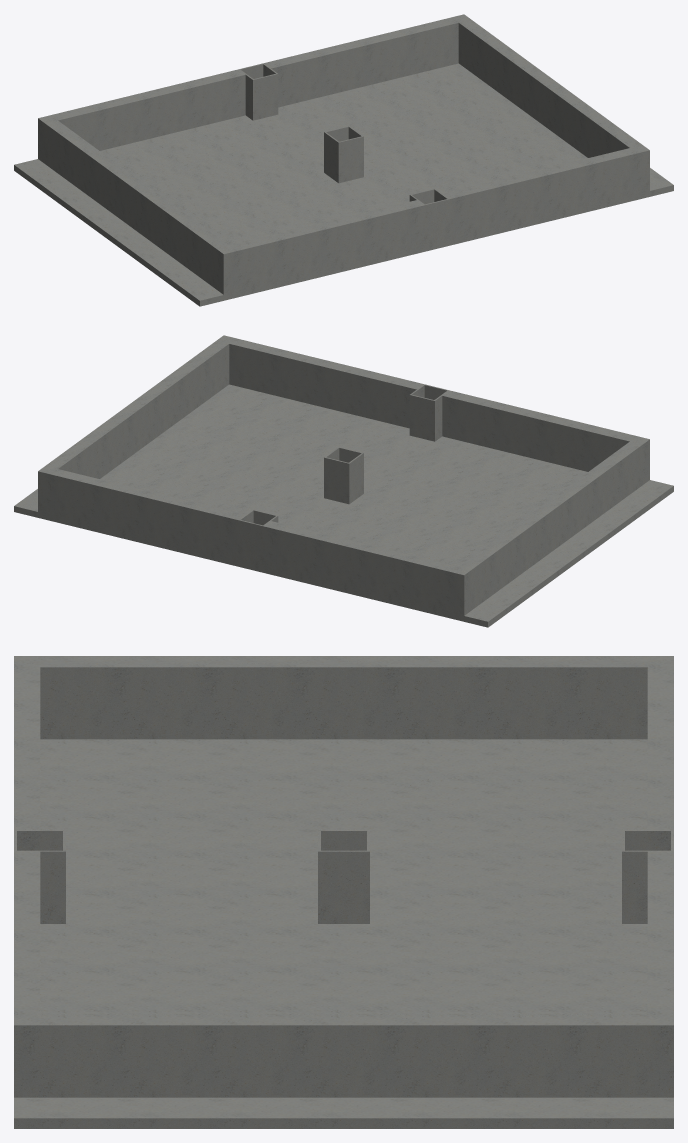
Rendered from arena_walls.dae.
The picture shows the model from 3 angles, top to bottom: view 1: azimuth 30°, elevation 25°; view 2: azimuth 150°, elevation 25°; view 3: azimuth 270°, elevation 25°; orthographic projection. The views are drawn at different scales.
Parts seen in each view (by area): view 1: arena_walls; view 2: arena_walls; view 3: arena_walls.
Boxes of the visible parts, bbox=[...] form: arena_walls: bbox=[14, 14, 673, 306]; arena_walls: bbox=[14, 335, 673, 627]; arena_walls: bbox=[14, 656, 673, 1128].
Bounding box in the file's own units: 8.54 × 5.8 × 0.8016.
1 material, 1 textured.
